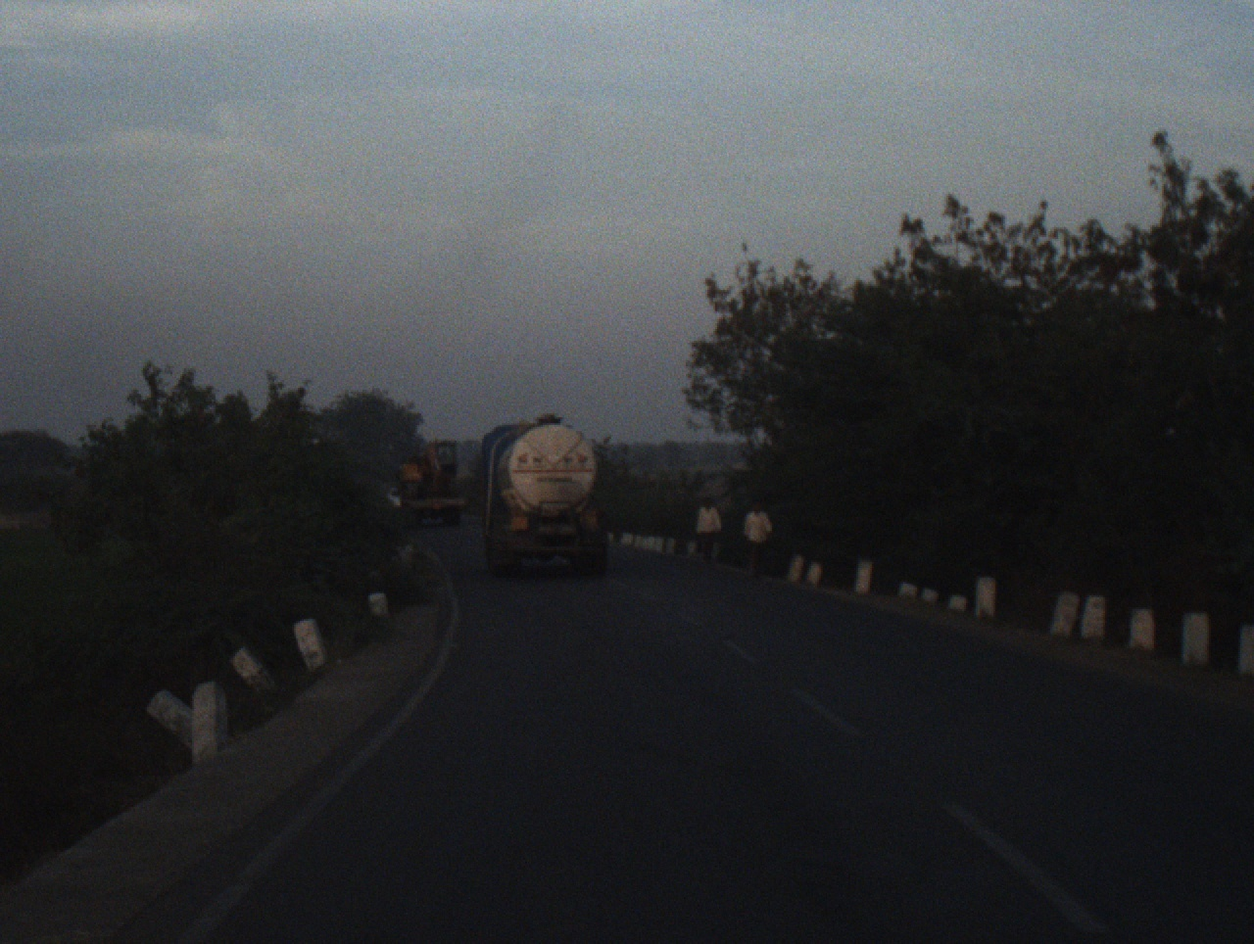car: (385, 487, 401, 509)
person: (741, 500, 775, 580), (691, 494, 723, 574)
truck: (477, 407, 617, 591)
vehicle fallback: (397, 433, 467, 526)
